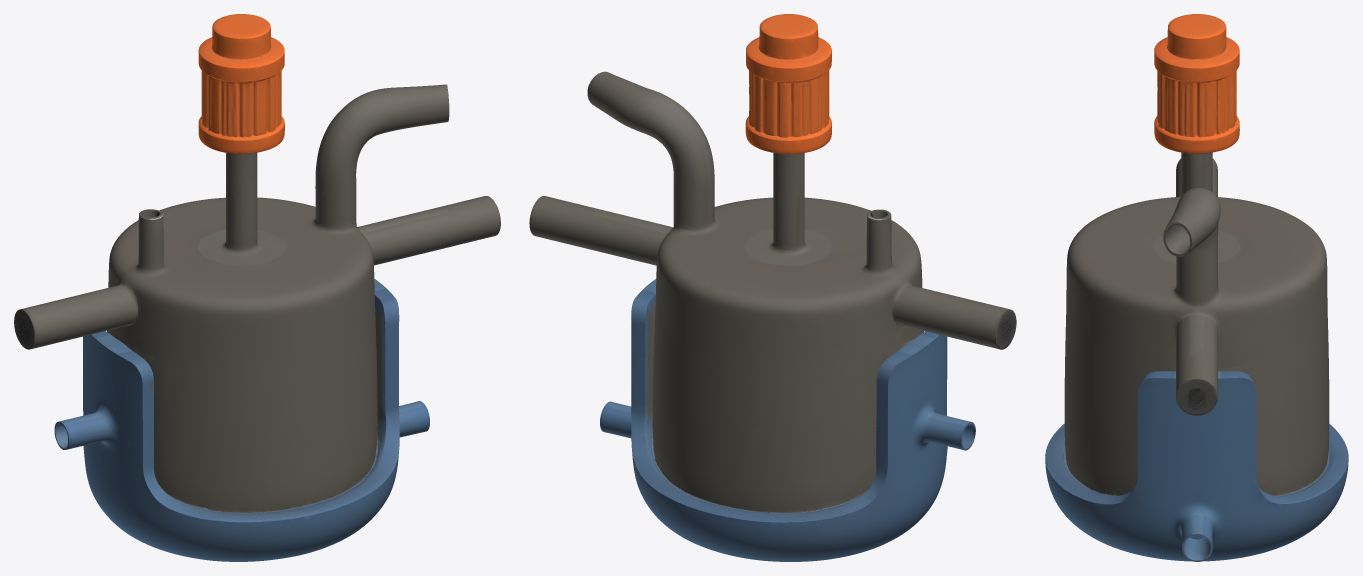
3 renders of one model, left to right at view 1: azimuth 30°, elevation 25°; view 2: azimuth 150°, elevation 25°; view 3: azimuth 270°, elevation 25°, orthographic.
Parts seen in each view (by area): view 1: model; view 2: model; view 3: model.
Part boxes in pixels (<box>): model: <box>14,14,500,561</box>; model: <box>529,14,1016,561</box>; model: <box>1045,14,1348,561</box>.
Bounding box in the file's own units: 1.85 × 1.9 × 1.04.
Materials: 1 (1 with a texture image).
